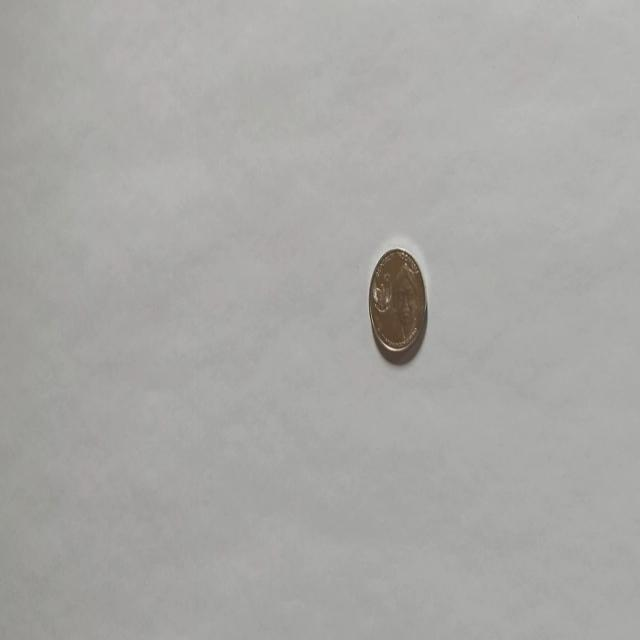dua ratus rupiah: (367, 245, 427, 361)
